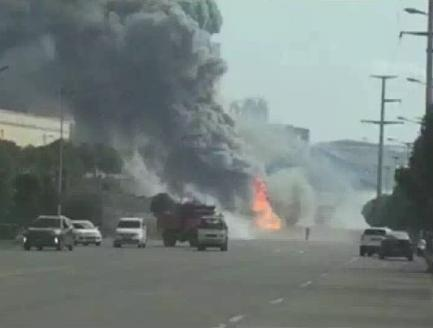fire: (249, 177, 282, 229)
